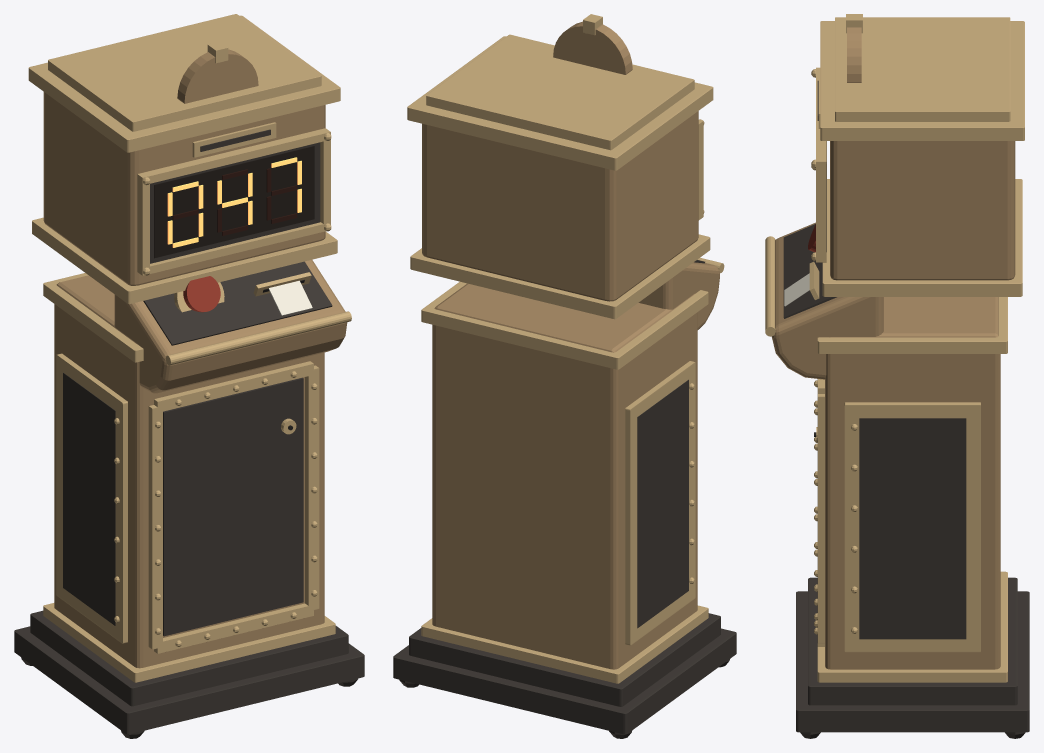
The model's file is queue_machine.glb.
3 renders of one model, left to right at view 1: azimuth 30°, elevation 25°; view 2: azimuth 150°, elevation 25°; view 3: azimuth 270°, elevation 25°, orthographic. The views are drawn at different scales.
Parts seen in each view (by area): view 1: cs_queue_machine_m4; view 2: cs_queue_machine_m4; view 3: cs_queue_machine_m4.
Boxes of the visible parts, x1,y1,x2,y2 form: cs_queue_machine_m4: (14, 14, 364, 738); cs_queue_machine_m4: (393, 14, 736, 738); cs_queue_machine_m4: (765, 14, 1029, 738).
Bounding box in the file's own units: 0.58 × 1.51 × 0.543.
